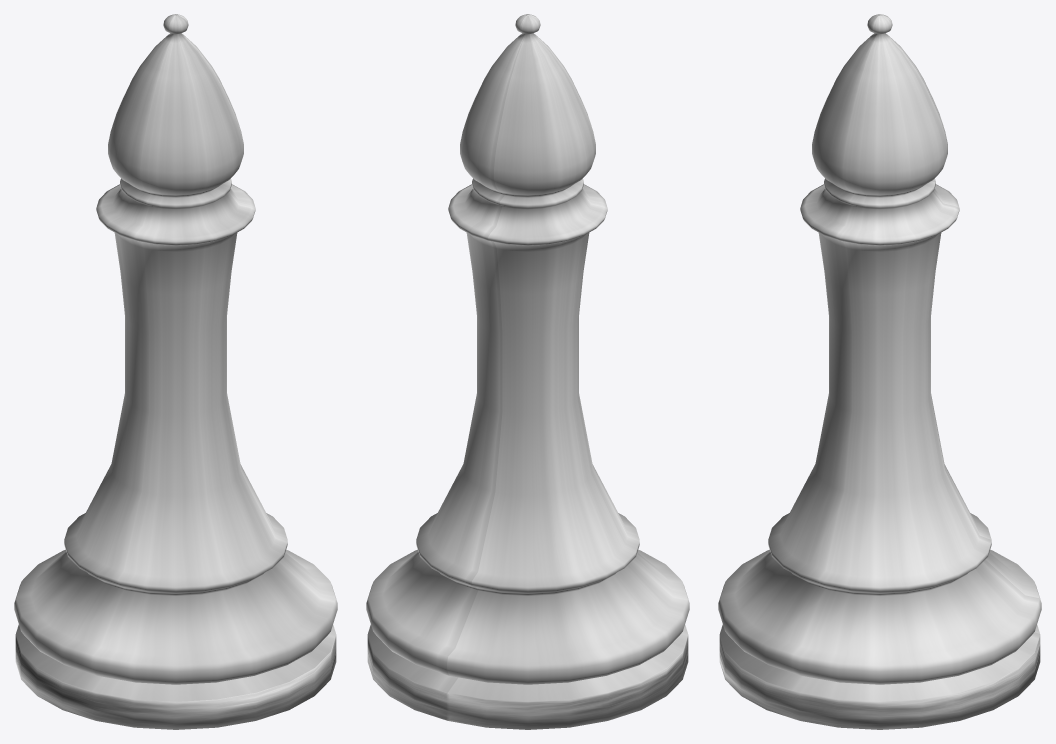
The model's file is white_bishop.obj.
The picture shows the model from 3 angles, left to right: view 1: azimuth 30°, elevation 25°; view 2: azimuth 150°, elevation 25°; view 3: azimuth 270°, elevation 25°; orthographic projection.
Visible parts, largest first — view 1: Bishop_Cylinder.003; view 2: Bishop_Cylinder.003; view 3: Bishop_Cylinder.003.
Boxes of the visible parts, x1,y1,x2,y2 form: Bishop_Cylinder.003: [14, 14, 337, 729]; Bishop_Cylinder.003: [366, 14, 689, 729]; Bishop_Cylinder.003: [718, 14, 1041, 729].
Bounding box in the file's own units: 1.51 × 3.34 × 1.51.
